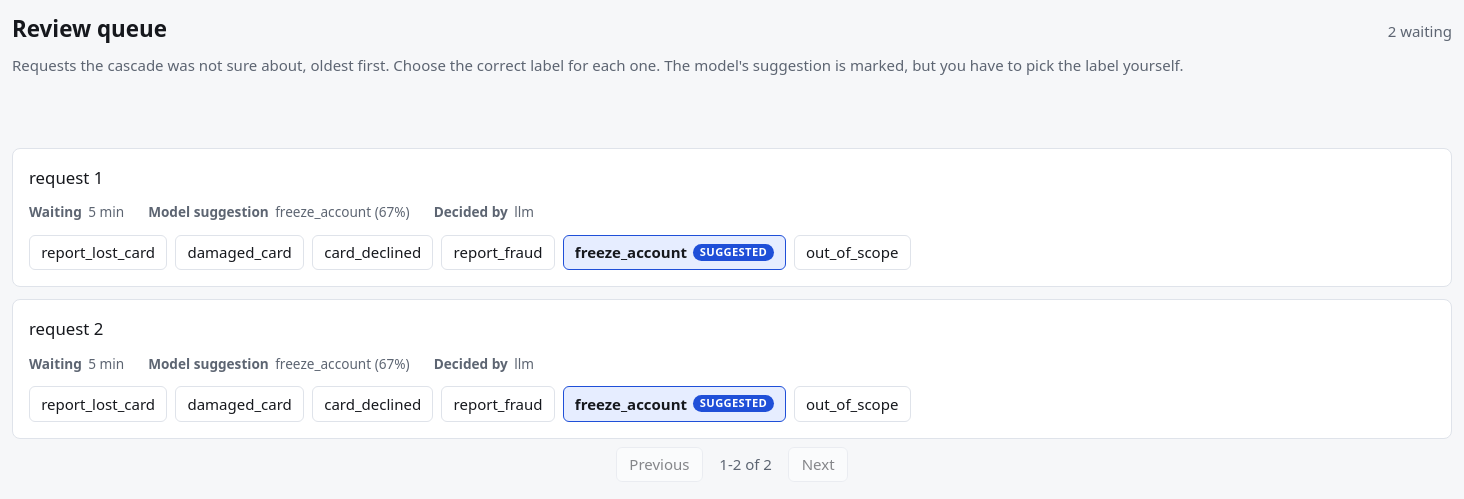
Test: when a decision fails › tells the person that somebody else was faster, and removes the request
The width and height of the screenshot is (1464, 499).
expect the list item "request 1" is shown: met, box [12, 148, 1452, 287]
Click the 1st button "report_fraud".
click(498, 253)  # box [441, 235, 555, 270]
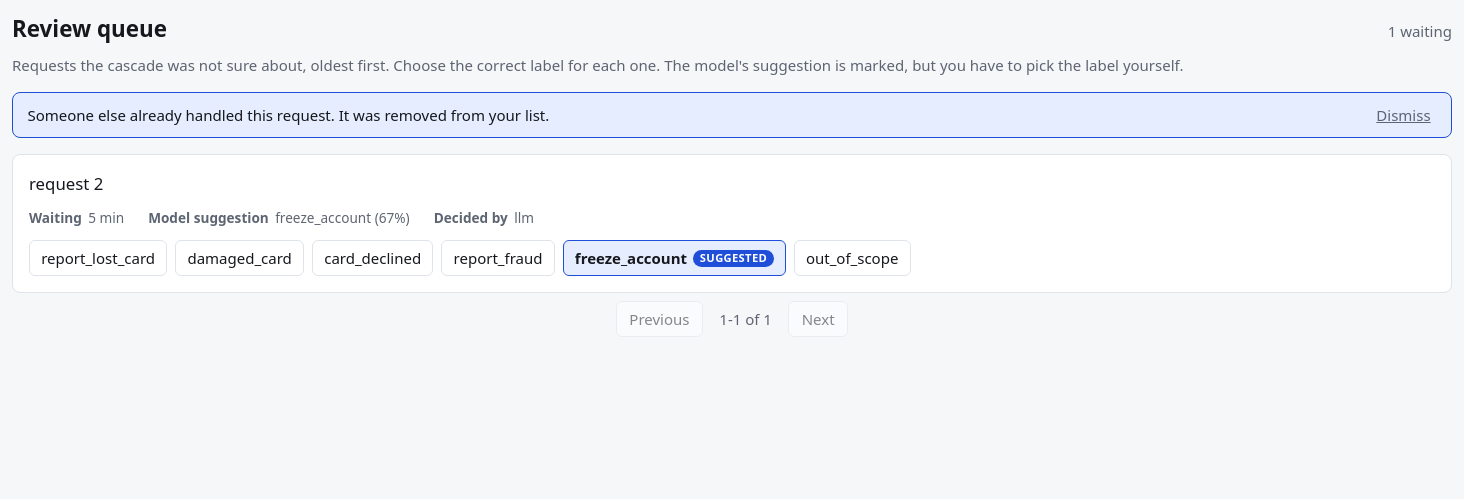
expect the text "Someone else already handled this request" is shown: met, box [27, 105, 549, 125]
expect the text "request 1" is gone: met
